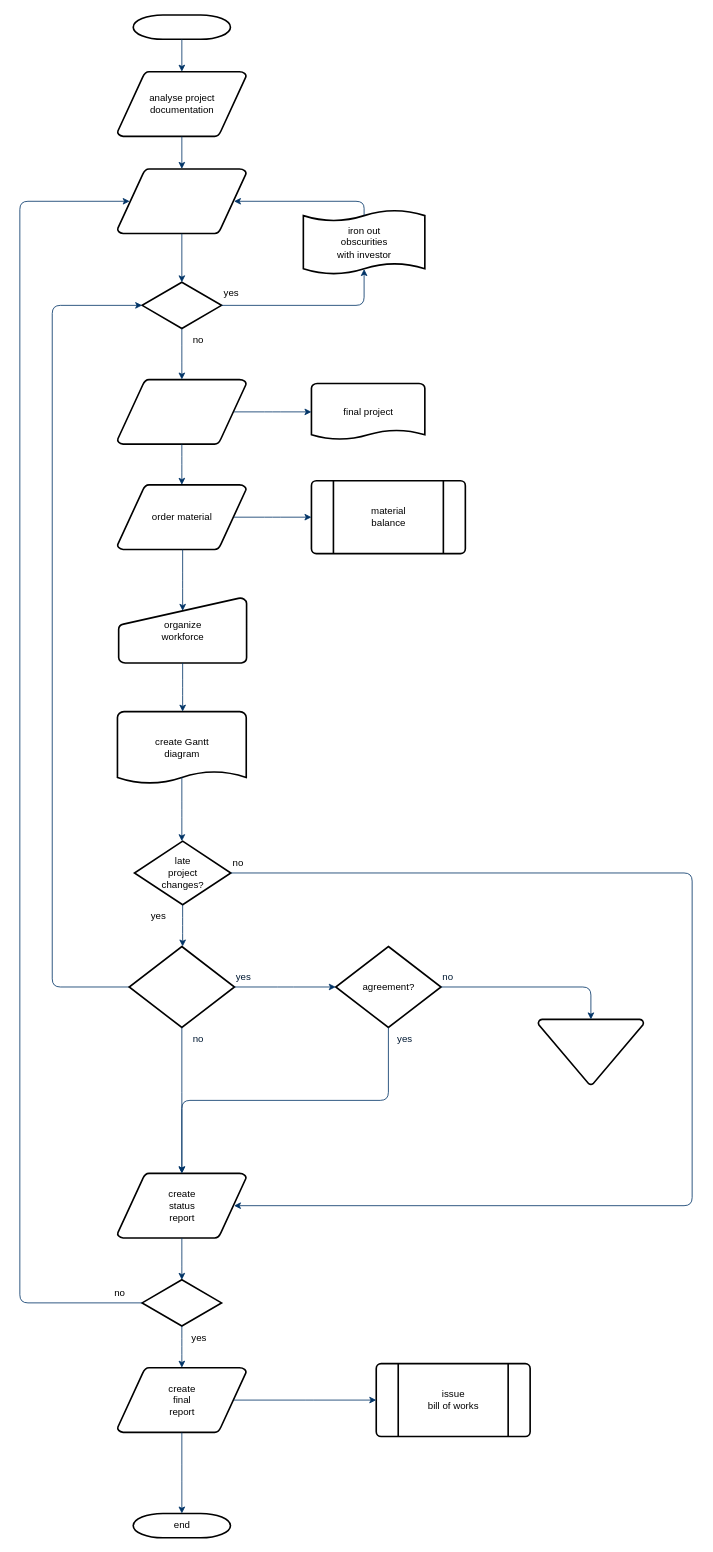
Image size: 713x1552. Some labels were removed from this diagram. The shapes that lost their labels are listed below. From the top down, each one's centre as x and y in pixels, then its label:
At [181,27]: "开始".
At [181,201]: "check for obscurities".
At [181,305]: "obscurities?".
At [181,411]: "create material specification".
At [181,986]: "investor disapproves investment?".
At [590,1051]: "terminate contract".
At [181,1302]: "project complete?".
